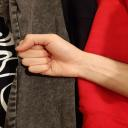Fist: (14, 33, 79, 82)
